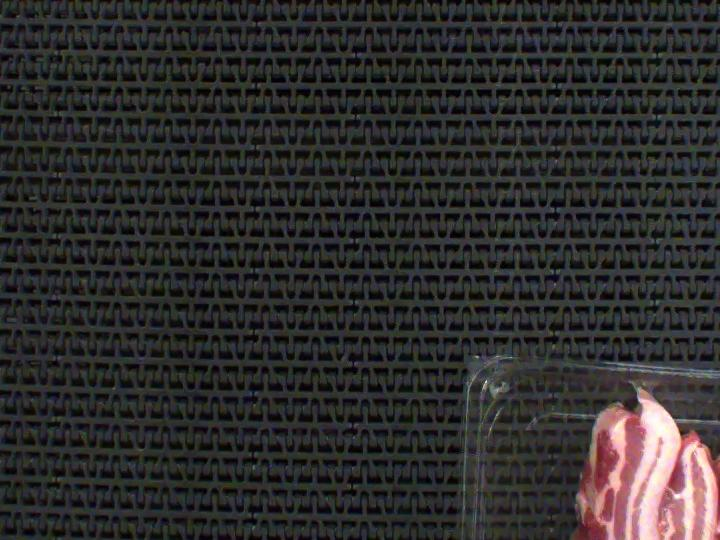packaging-error: (618, 370, 663, 398)
